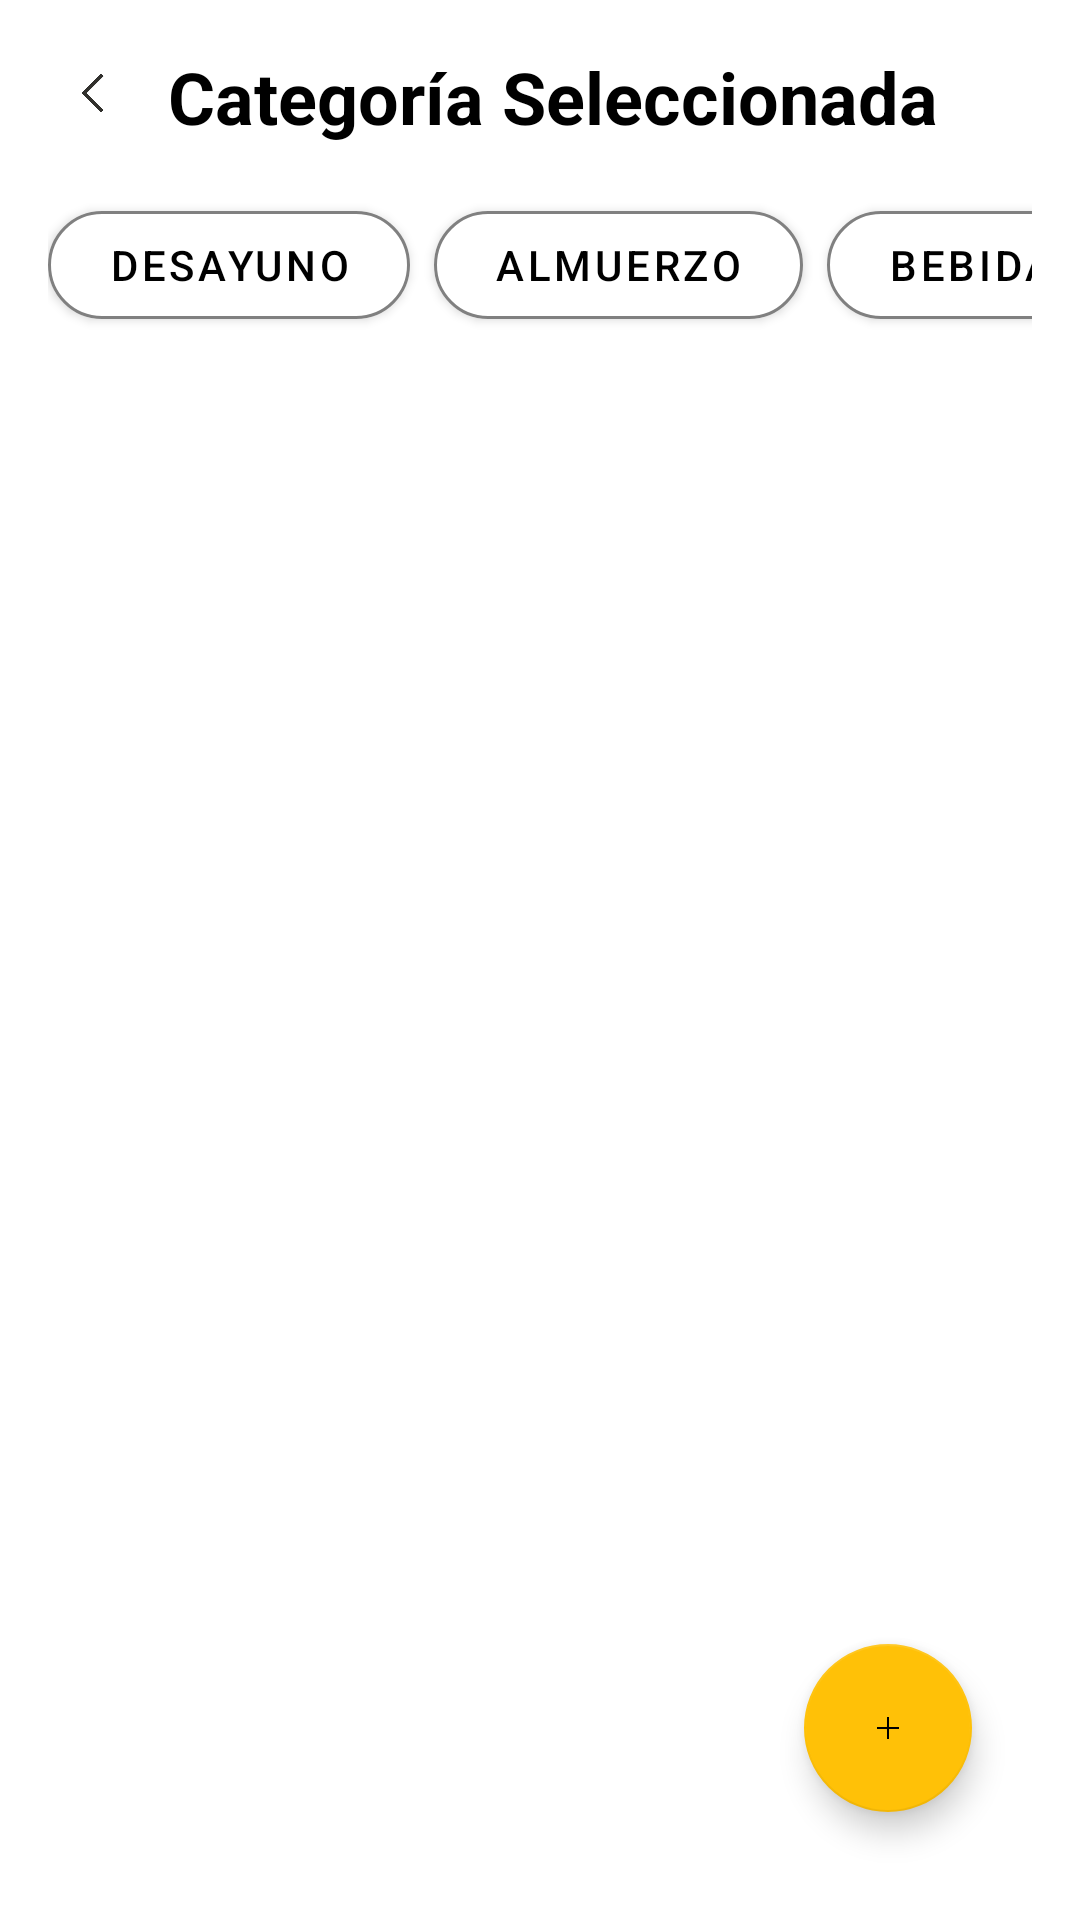

Where icons sit on this 1080px x 1920px app screen, as (x1, y1, x2, y2):
Agregar nueva receta: (804, 1644, 972, 1812)
Volver: (82, 74, 103, 112)
